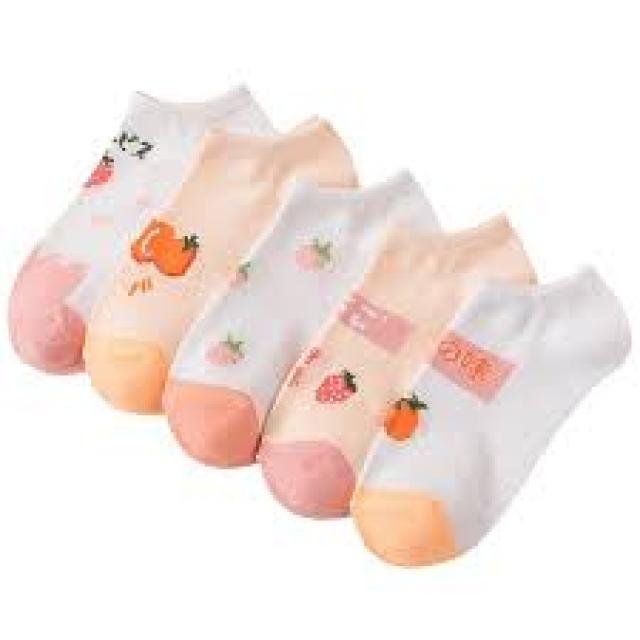sock: (253, 210, 538, 518), (347, 262, 631, 566), (159, 168, 441, 466), (80, 111, 358, 412), (5, 82, 278, 376)
